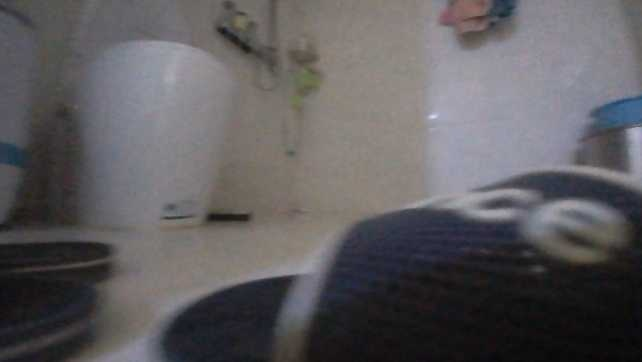toilet: (59, 0, 242, 230)
